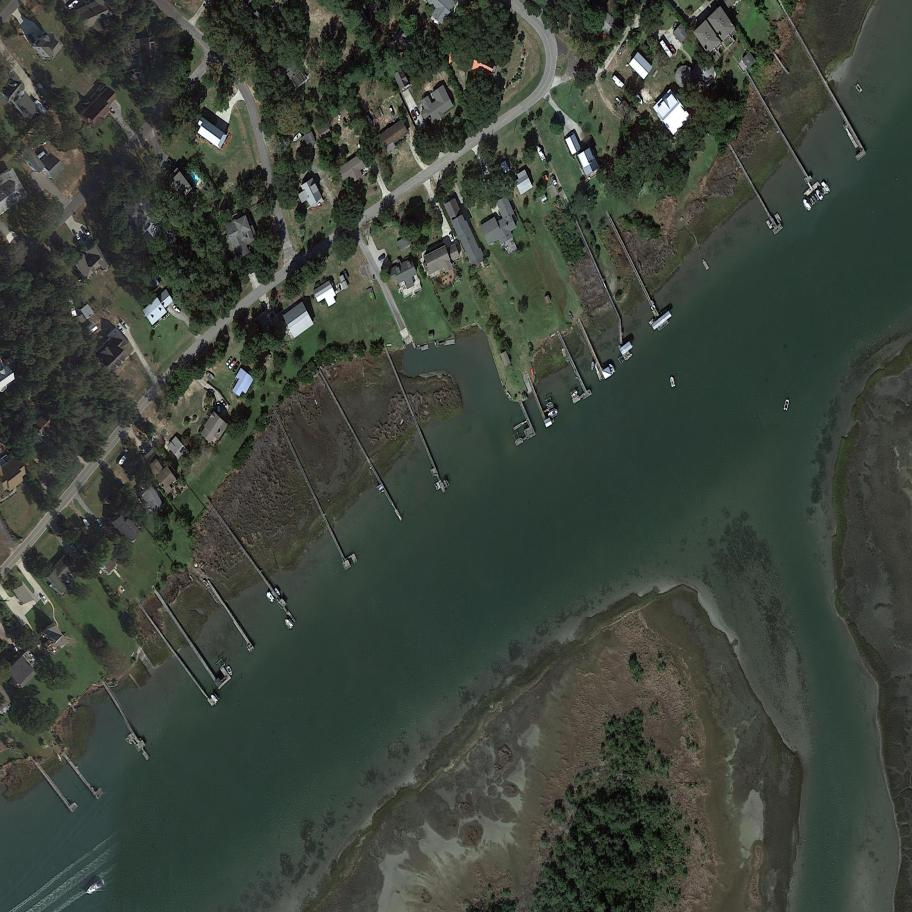ship: (83, 878, 106, 895), (801, 196, 813, 212), (819, 180, 831, 194), (634, 93, 646, 107), (536, 145, 546, 161), (283, 617, 295, 630), (814, 189, 825, 201), (547, 408, 559, 419), (117, 455, 128, 467), (208, 693, 219, 704), (265, 591, 275, 603), (608, 362, 616, 376), (292, 131, 302, 142), (225, 664, 234, 676), (570, 390, 579, 399), (670, 375, 676, 388), (337, 114, 342, 124)
small-vehicle: (171, 304, 182, 315), (227, 359, 237, 371), (231, 361, 240, 374), (668, 44, 678, 55), (117, 326, 127, 336), (120, 320, 130, 330), (388, 105, 396, 117), (551, 174, 558, 187), (220, 398, 228, 409), (82, 228, 91, 237), (225, 356, 233, 366), (108, 105, 116, 115), (447, 233, 455, 243), (377, 254, 387, 262), (414, 107, 422, 117), (40, 594, 48, 603), (74, 231, 81, 241), (343, 269, 350, 279), (410, 111, 417, 121), (784, 399, 789, 411), (215, 402, 220, 414)
